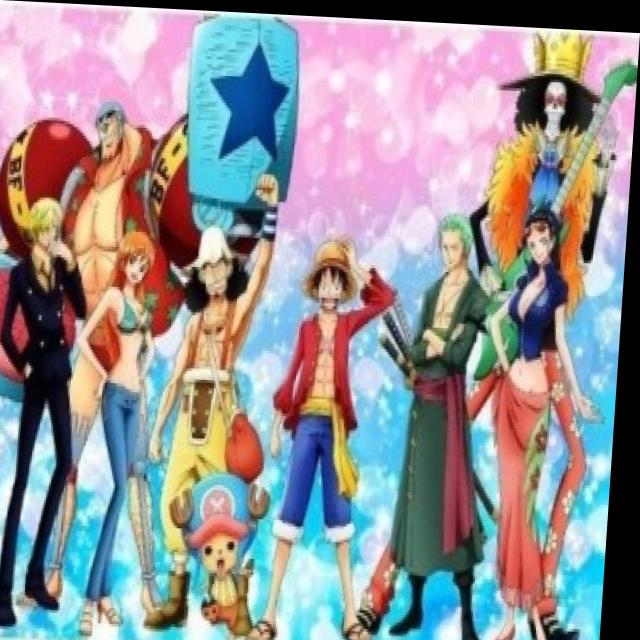Blook: (500, 29, 609, 165)
Chyopa: (167, 459, 282, 640)
Franky: (93, 94, 141, 171)
Luffy: (298, 234, 378, 314)
Nami: (110, 224, 167, 292)
NicoRobin: (517, 193, 570, 282)
Sangdi: (29, 195, 69, 261)
Usopp: (183, 217, 251, 312)
Zoro: (434, 201, 482, 278)
